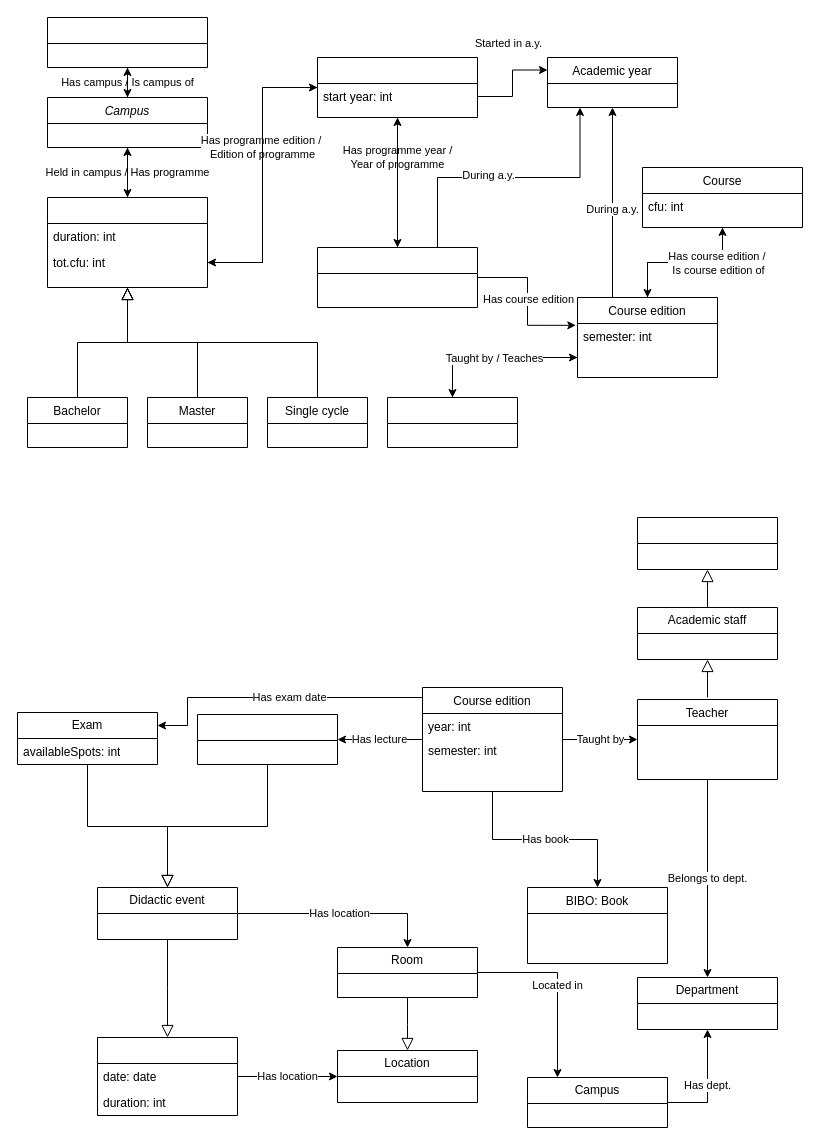
The diagram is 820 pixels wide and 1145 high, and some of its shapes have lost their labels. The shapes that lost their labels are listed below. From the top down, each one's box as (x1, y1, x2, y2) in pixels, then its label:
(46, 16, 208, 68): Organization
(316, 56, 478, 118): Programme edition
(46, 196, 208, 288): Programme
(316, 246, 478, 308): Programme year
(386, 396, 518, 448): Professor
(636, 516, 778, 570): Person
(196, 714, 338, 764): Lecture
(96, 1036, 238, 1116): Event
